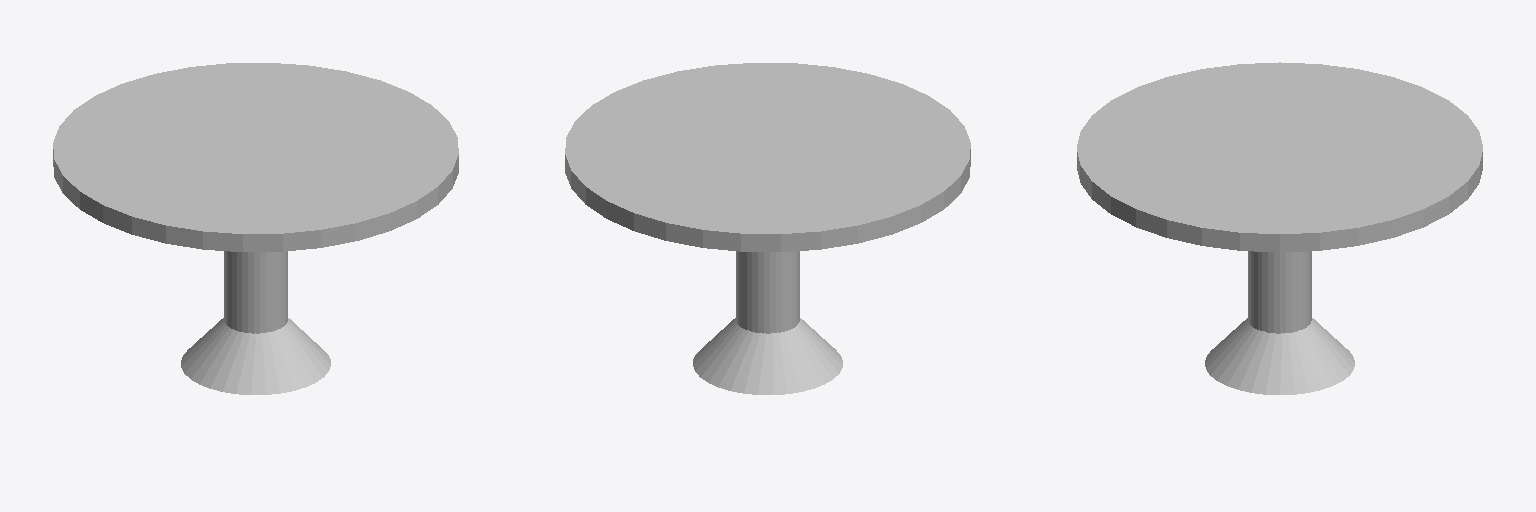
The model's file is mesa_ext_2.obj.
3 renders of one model, left to right at view 1: azimuth 30°, elevation 25°; view 2: azimuth 150°, elevation 25°; view 3: azimuth 270°, elevation 25°, orthographic.
Visible parts, largest first — view 1: Cilindro.001; view 2: Cilindro.001; view 3: Cilindro.001.
Boxes of the visible parts, x1,y1,x2,y2 form: Cilindro.001: [53, 63, 458, 394]; Cilindro.001: [565, 63, 970, 394]; Cilindro.001: [1077, 62, 1482, 394].
Bounding box in the file's own units: 1.2 × 0.7 × 1.2.